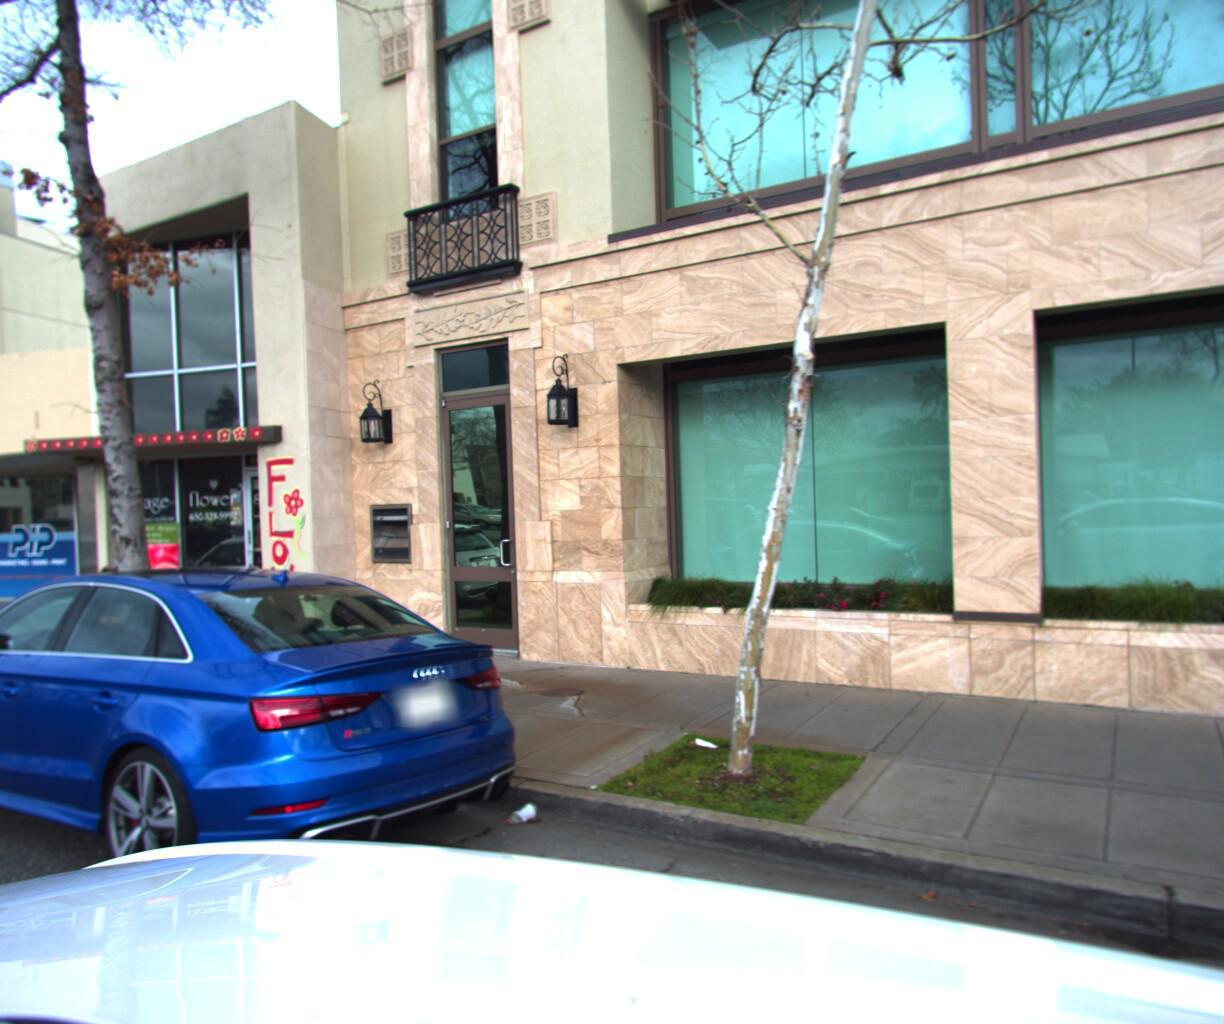car: (0, 555, 555, 991)
